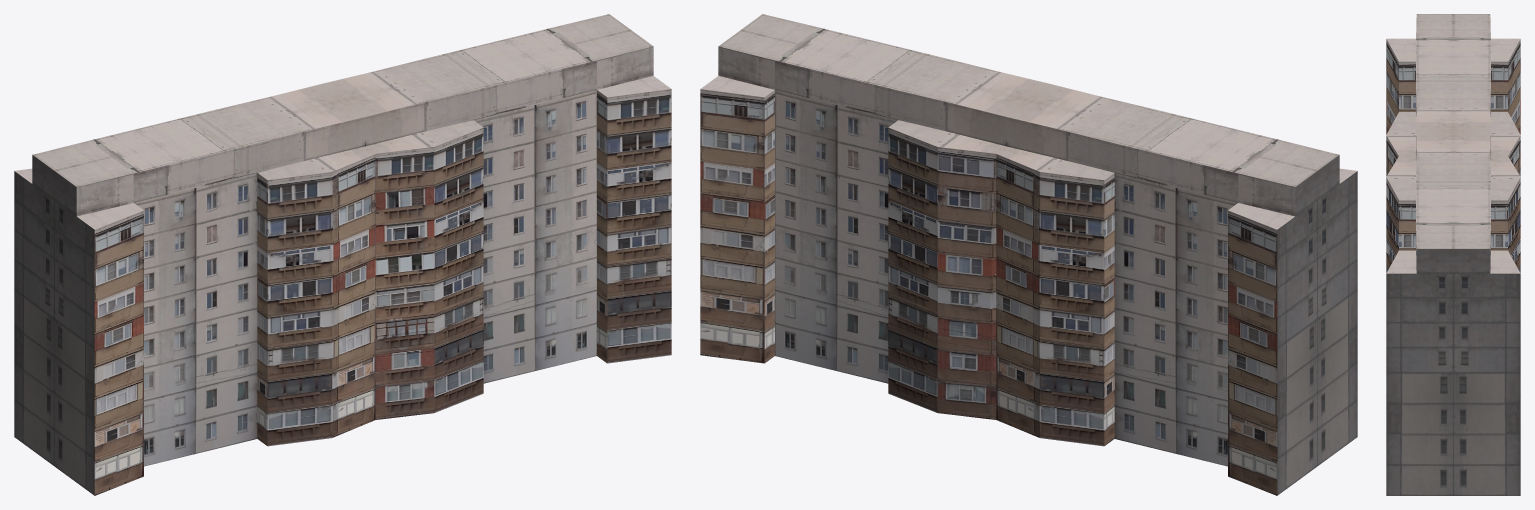
File: building3.fbx
3 views of the same model, side by side, from view 1: azimuth 30°, elevation 25°; view 2: azimuth 150°, elevation 25°; view 3: azimuth 270°, elevation 25° (orthographic). The views are drawn at different scales.
Visible parts, largest first — view 1: Cube.001; view 2: Cube.001; view 3: Cube.001.
Part boxes in pixels (left/top/right/bottom): Cube.001: left=14, top=14, right=671, bottom=495; Cube.001: left=700, top=14, right=1357, bottom=495; Cube.001: left=1386, top=14, right=1520, bottom=495.
Bounding box in the file's own units: 1257 × 615 × 304.
Materials: 1 (1 with a texture image).
